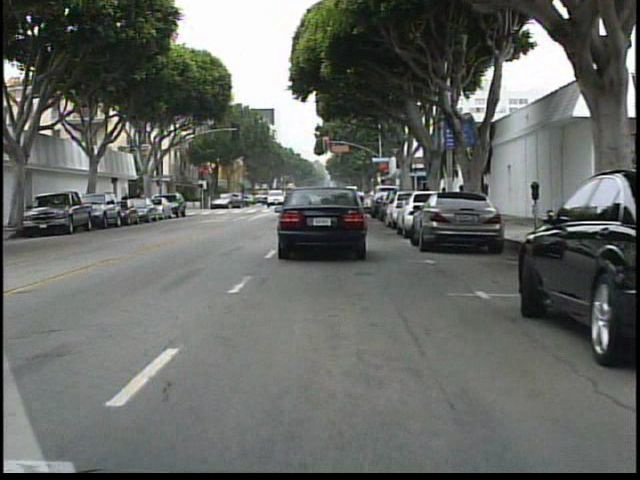person: (120, 190, 130, 201)
